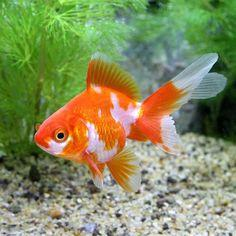goldfish: (22, 48, 224, 189)
